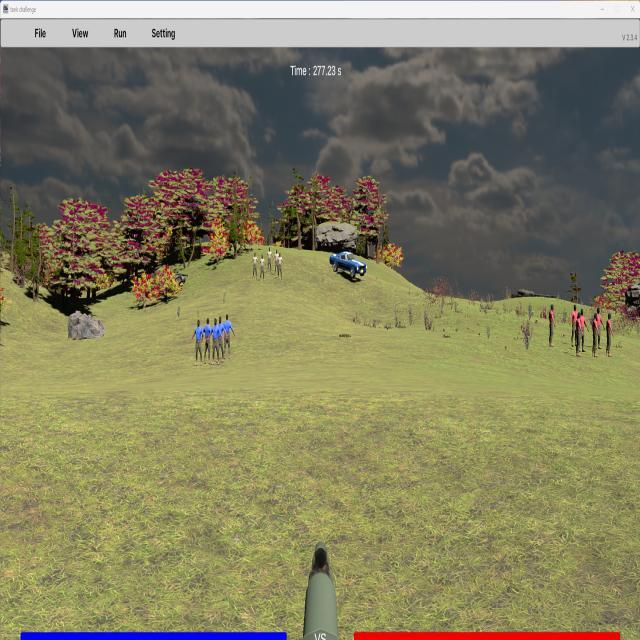Human: (191, 319, 205, 367), (210, 317, 224, 365), (221, 314, 235, 359), (576, 307, 589, 355), (576, 307, 589, 354), (201, 318, 214, 362), (591, 309, 602, 358), (569, 305, 580, 349), (605, 312, 615, 357)
car: (330, 251, 367, 279)
